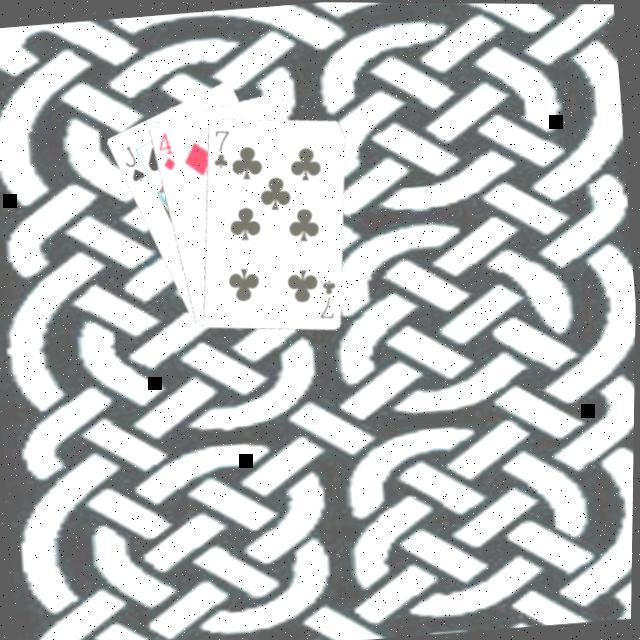4D: (155, 125, 181, 172)
7C: (315, 273, 344, 320), (209, 122, 237, 168)
JS: (120, 138, 151, 184)
